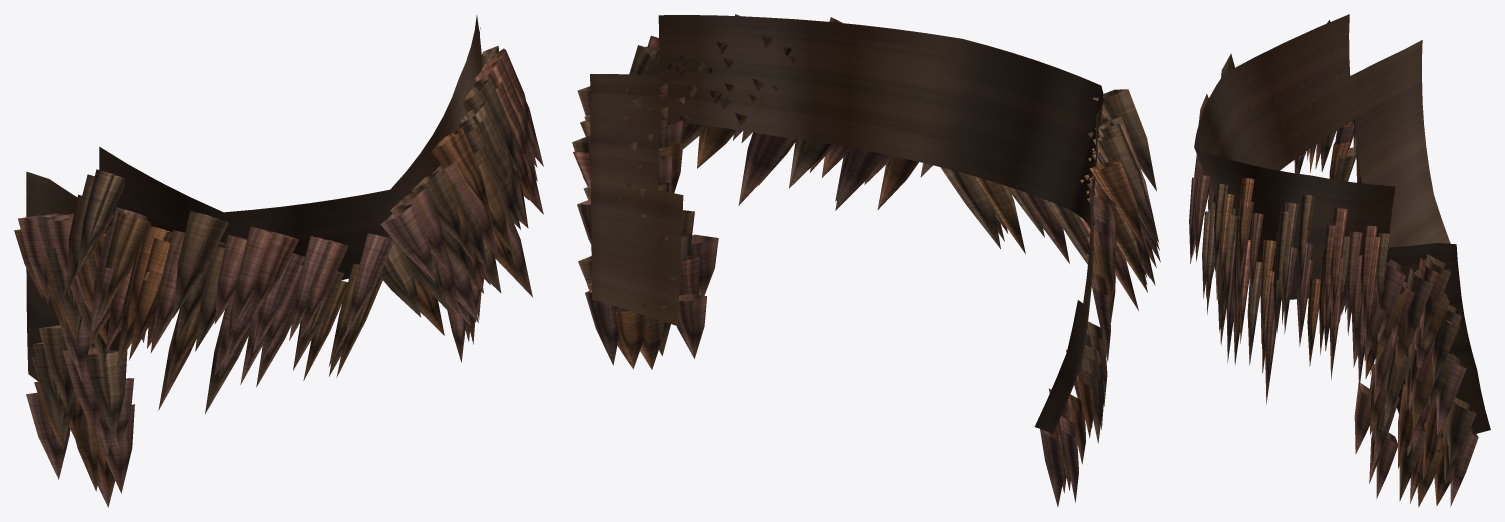
File: ferradura.glb
3 renders of one model, left to right at view 1: azimuth 30°, elevation 25°; view 2: azimuth 150°, elevation 25°; view 3: azimuth 270°, elevation 25°, orthographic. The views are drawn at different scales.
Visible parts, largest first — view 1: barba_ferradura; view 2: barba_ferradura; view 3: barba_ferradura.
Boxes of the visible parts, <box> form: barba_ferradura: <box>14,15,543,507</box>; barba_ferradura: <box>572,14,1160,506</box>; barba_ferradura: <box>1189,14,1490,507</box>.
Bounding box in the file's own units: 0.1306 × 0.0977 × 0.0702.
Materials: 1 (1 with a texture image).
